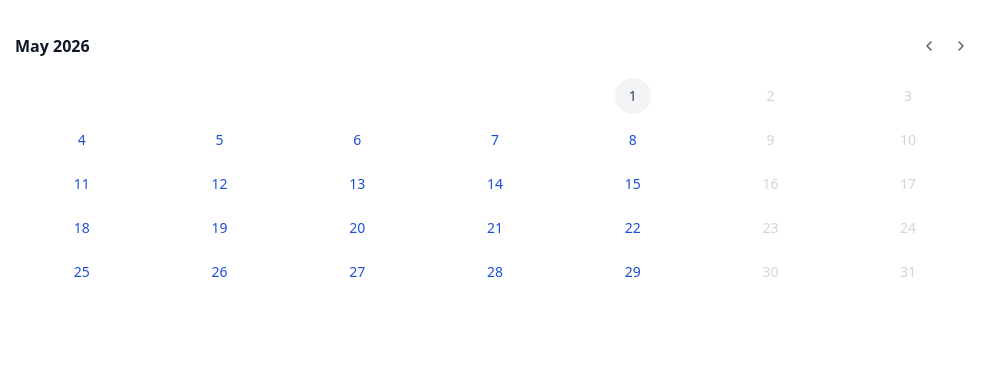
Test case: TimePicker › day selection and time slots › shows time slots panel after selecting a day
Click the button "1" at [633, 96], box [615, 78, 651, 114]
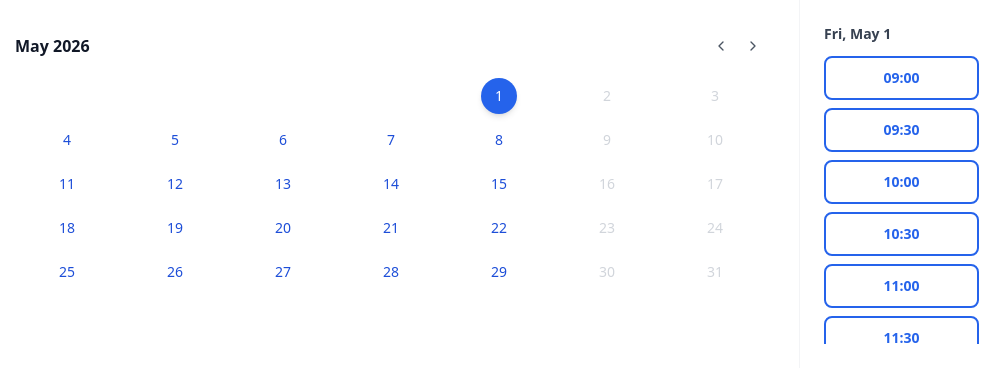
Result: the element that starts with "Fri, May 1" is shown at [799, 0, 1006, 368]
